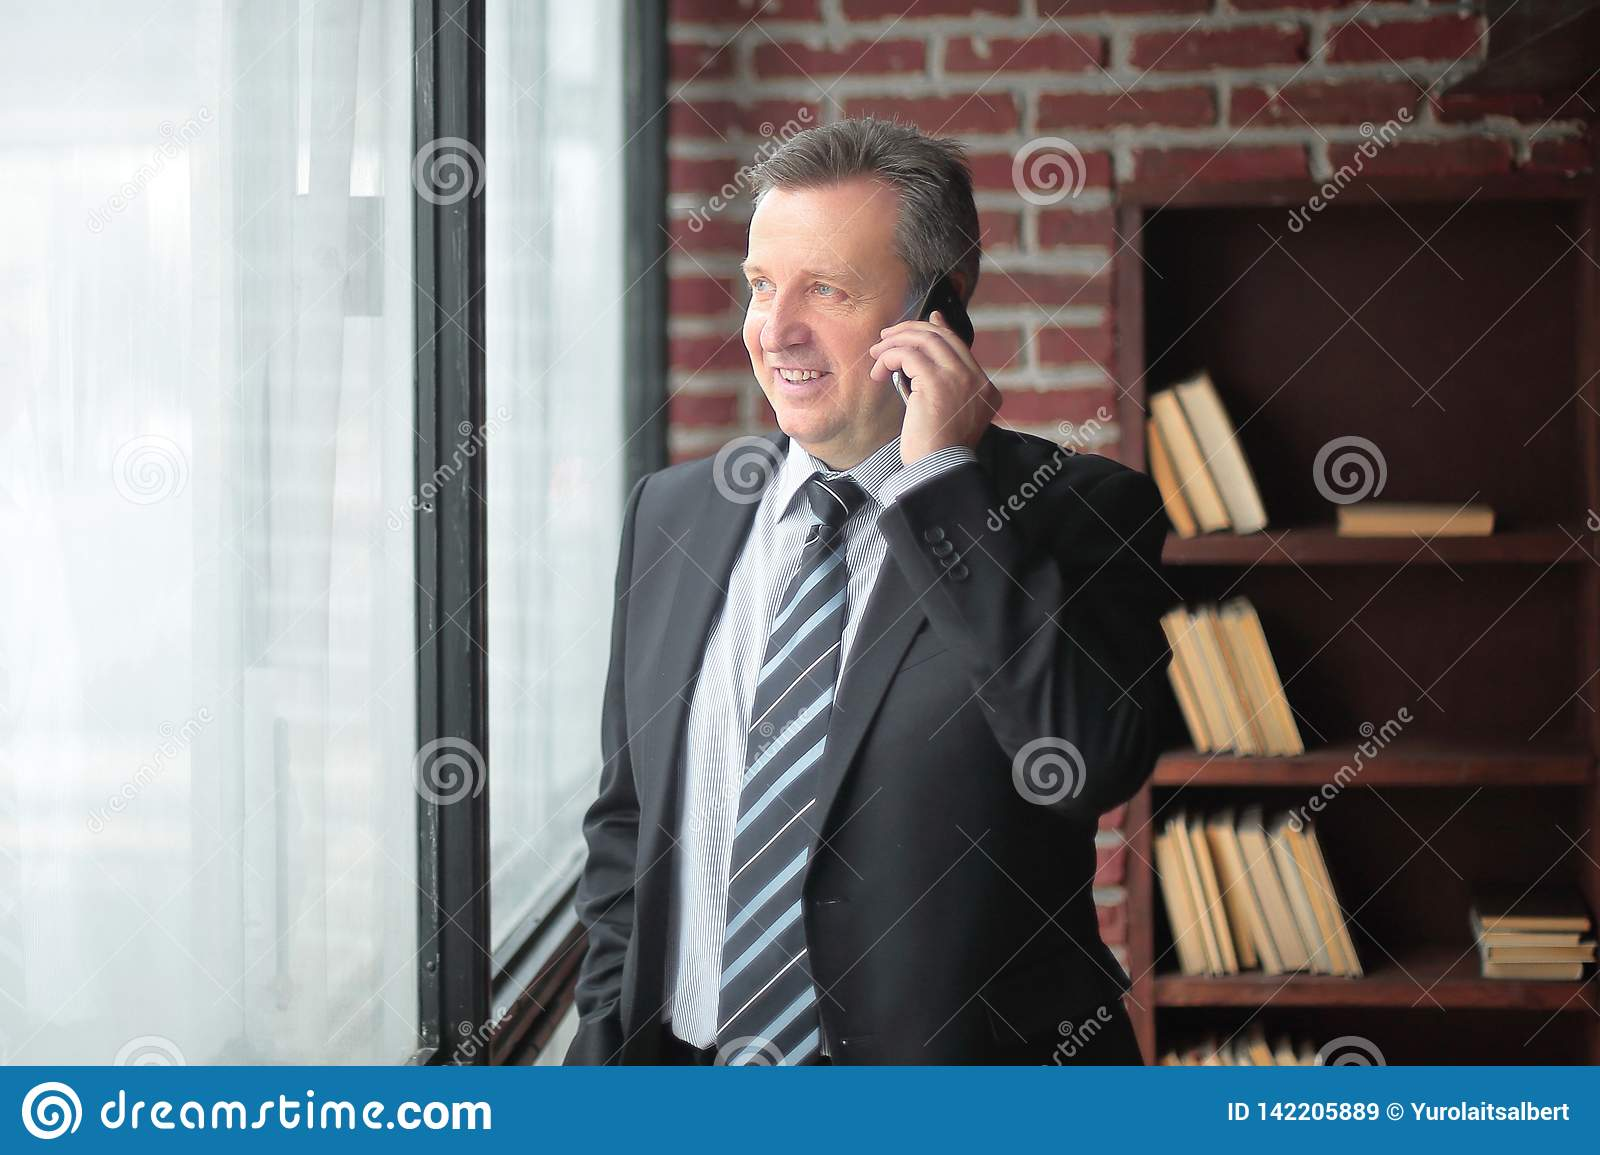phone: (887, 268, 983, 420)
talk: (743, 241, 1009, 488)
